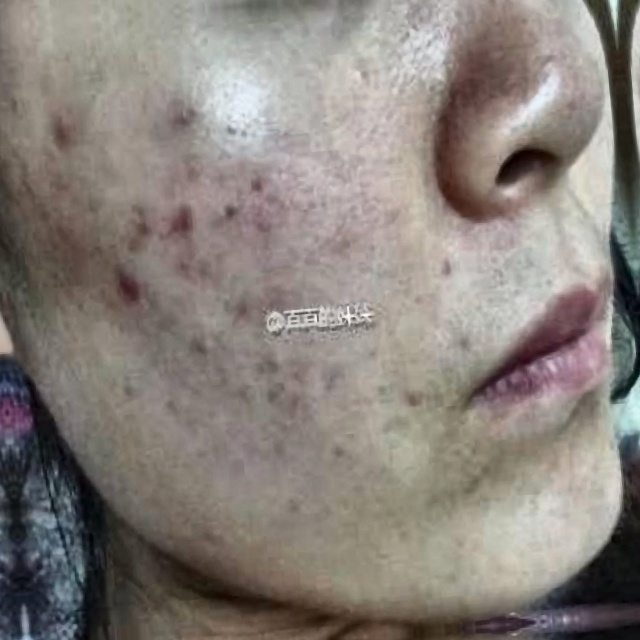comedone: (98, 255, 142, 319), (163, 195, 202, 248), (47, 105, 87, 155)
